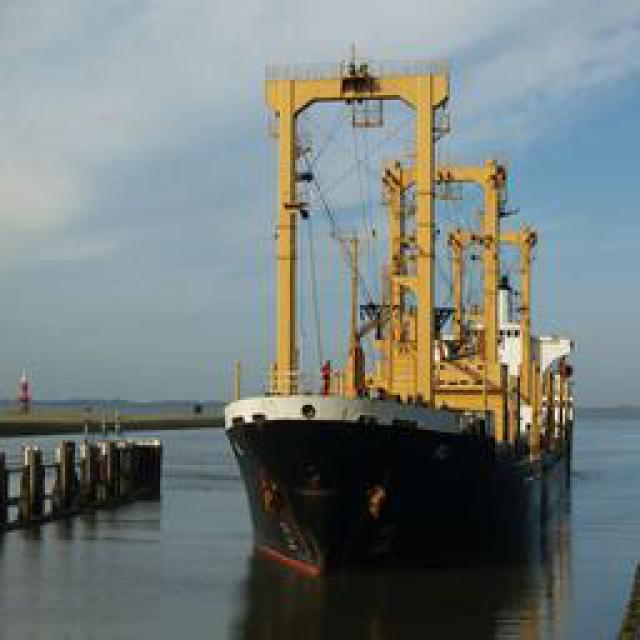Ship: (221, 41, 581, 579)
